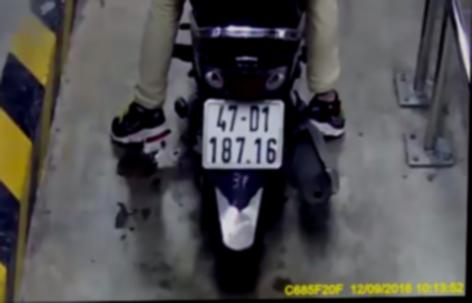License_Plate: (196, 93, 288, 175)
